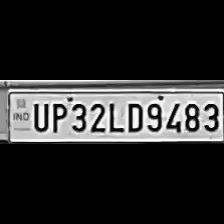2: (88, 99, 106, 133)
3: (68, 99, 86, 133), (200, 99, 218, 133)
4: (162, 98, 180, 132)
8: (180, 100, 200, 132)
9: (144, 100, 162, 132)
D: (122, 100, 144, 132)
L: (106, 99, 122, 133)
P: (47, 99, 66, 133)
U: (29, 100, 48, 132)
